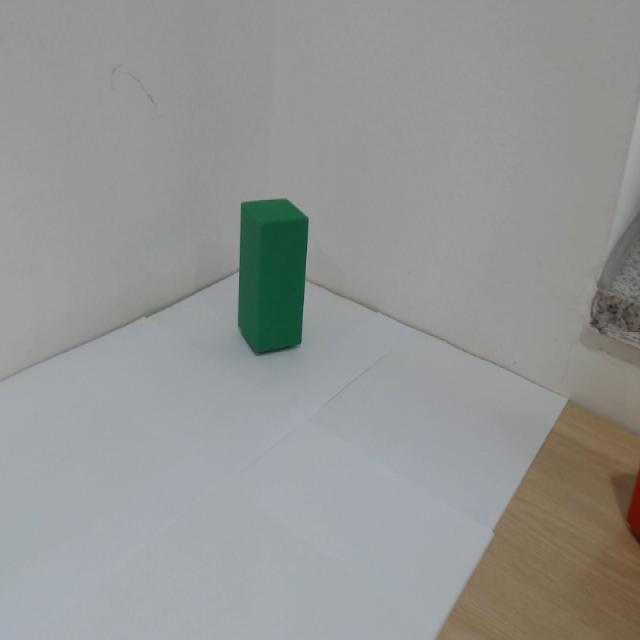cube: (197, 124, 373, 495)
